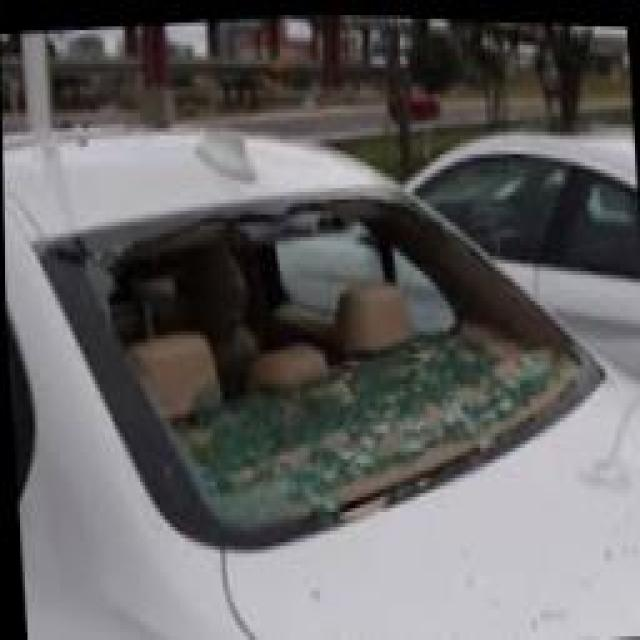replaceable: (69, 230, 572, 461)
